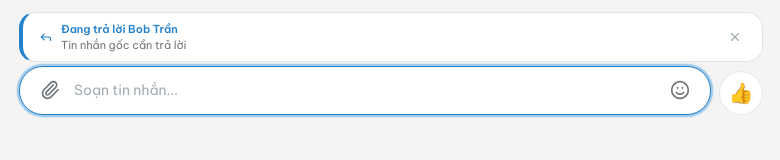
it: MessageComposer Component Tests › displays reply banner and sends message with replyToId
Check: the element with test id "reply-banner" is shown, box x1=19 y1=12 x2=763 y2=62
Check: the text "Đang trả lời Bob Trần" is shown, box x1=61 y1=21 x2=186 y2=37
Note: Type reply message and send
Type "Đây là câu trả lời của tôi" into the text box named "Nội dung tin nhắn".
click(365, 90); type("Đây là câu trả lời của tôi")  # box x1=66 y1=73 x2=664 y2=108
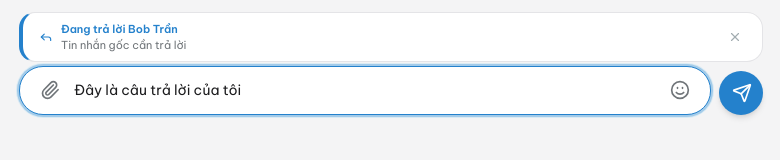
Click the button named "Gửi tin nhắn".
click(741, 93)  # box x1=719 y1=71 x2=763 y2=115
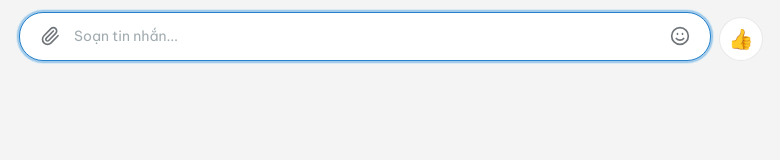
Check: the element with test id "reply-banner" is gone
